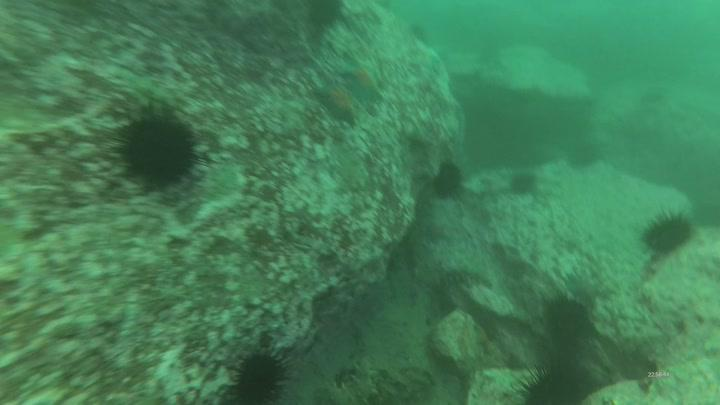urchin: (114, 99, 201, 200), (506, 355, 591, 405), (229, 343, 294, 405), (535, 286, 591, 345), (637, 201, 691, 257), (428, 157, 464, 196)
